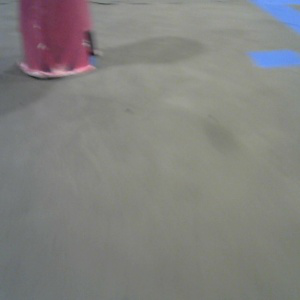middle: (18, 1, 99, 77)
